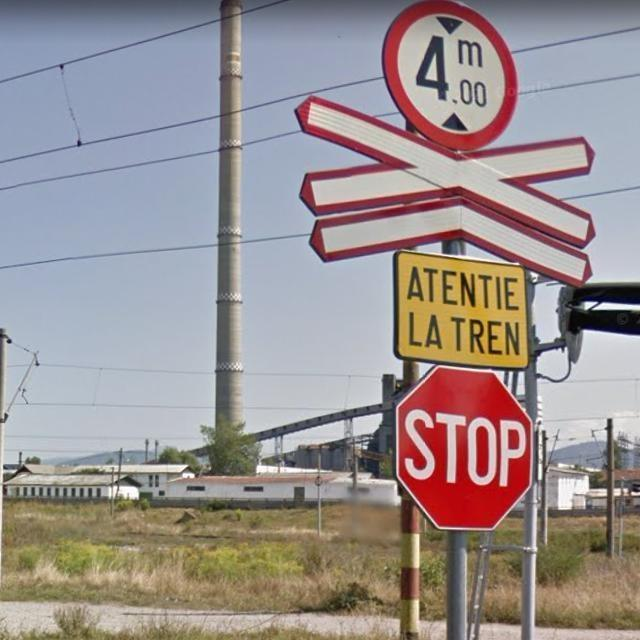prio_stop: (394, 366, 530, 532)
